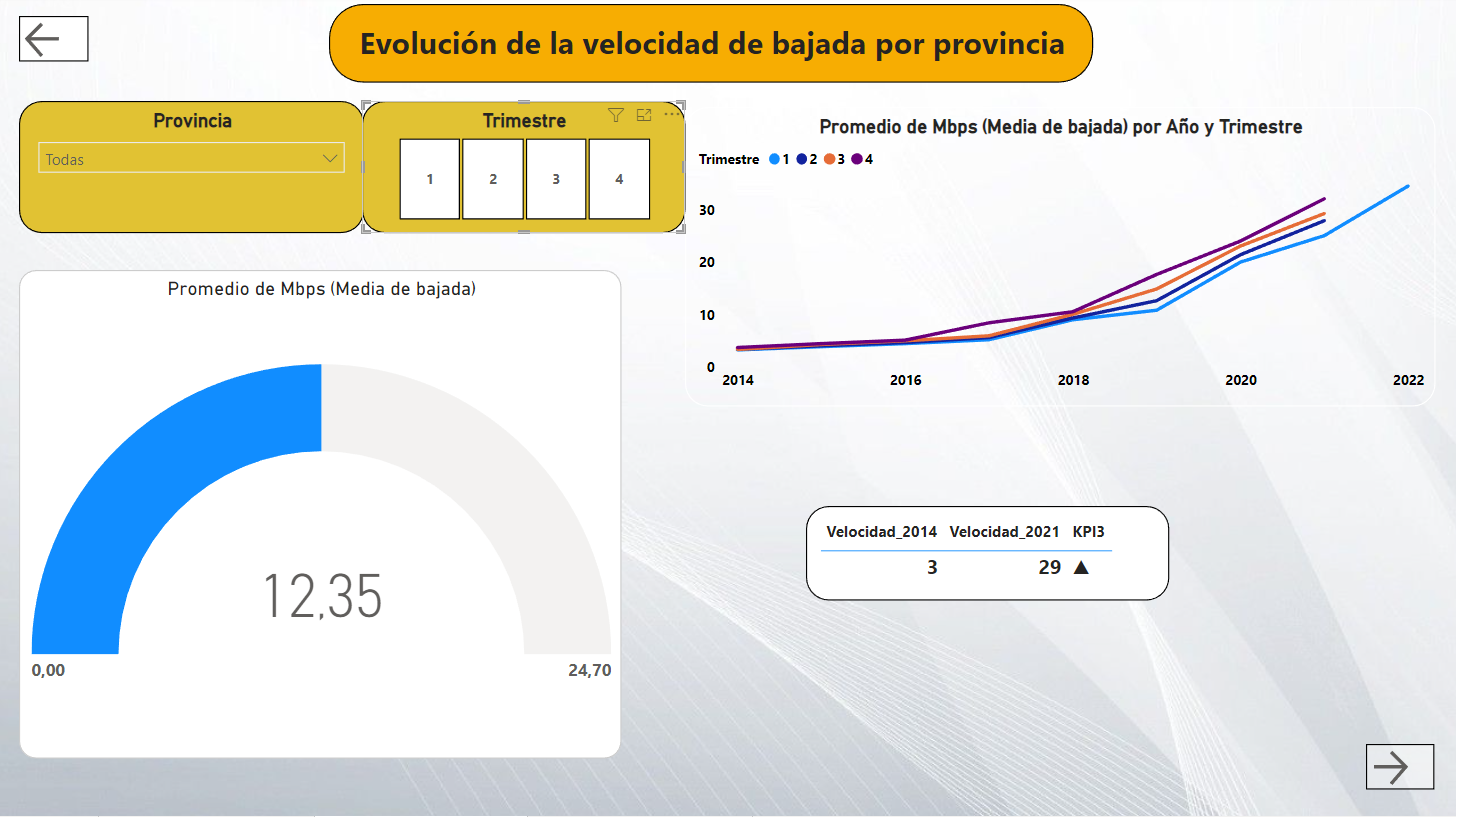

The dashboard page shown, as its layout file describes it:
{"tool":"powerbi","page":{"name":"Velocidad de Bajada x Provincia","canvas":[1280,720],"ordinal":3},"visuals":[{"type":"slicer","title":"Provincia","fields":{"Values":["Velocidad_Media_de_bajada_de_Internet_fijo_por_provincia.Provincia"]},"box":[17.6,92.2,302.9,115.9],"z":0},{"type":"lineChart","fields":{"Category":["Velocidad_Media_de_bajada_de_Internet_fijo_por_provincia.Año"],"Y":["Avg(Velocidad_Media_de_bajada_de_Internet_fijo_por_provincia.Mbps (Media de bajada))"],"Series":["Velocidad_Media_de_bajada_de_Internet_fijo_por_provincia.Trimestre"]},"box":[602.3,97.5,658.5,262.5],"z":1000},{"type":"textbox","box":[289.8,7,670.8,69.4],"z":2000},{"type":"gauge","fields":{"Y":["Avg(Velocidad_Media_de_bajada_de_Internet_fijo_por_provincia.Mbps (Media de bajada))"]},"box":[17.6,240.6,529.5,429.4],"z":3000},{"type":"slicer","title":"Trimestre","fields":{"Values":["Velocidad_Media_de_bajada_de_Internet_fijo_por_provincia.Trimestre"]},"box":[318.7,92.2,283.6,115.9],"z":4000},{"type":"actionButton","box":[17.6,17.6,60.6,40.4],"z":5000},{"type":"actionButton","box":[1200.6,657,60.3,39.9],"z":6000},{"type":"tableEx","fields":{"Values":["Velocidad_Media_de_bajada_de_Internet_fijo_por_provincia.Velocidad_2014","Velocidad_Media_de_bajada_de_Internet_fijo_por_provincia.Velocidad_2021","Velocidad_Media_de_bajada_de_Internet_fijo_por_provincia.KPI3"]},"box":[708.9,447.4,318.7,83.5],"z":7000}]}

Visuals, with their boxes in screenshot pixels (x1, y1, x2, y2), scaled from the page's 1280x720 canvas onto the 1461x817 screenshot:
"Provincia" slicer: 20,105,366,236
lineChart - Velocidad_Media_de_bajada_de_Internet_fijo_por_provincia.Año x Avg(Velocidad_Media_de_bajada_de_Internet_fijo_por_provincia.Mbps (Media de bajada)): 687,111,1439,408
textbox: 331,8,1096,87
gauge - Avg(Velocidad_Media_de_bajada_de_Internet_fijo_por_provincia.Mbps (Media de bajada)): 20,273,624,760
"Trimestre" slicer: 364,105,687,236
actionButton: 20,20,89,66
actionButton: 1370,746,1439,791
tableEx - Velocidad_Media_de_bajada_de_Internet_fijo_por_provincia.Velocidad_2014 x Velocidad_Media_de_bajada_de_Internet_fijo_por_provincia.Velocidad_2021: 809,508,1173,602
